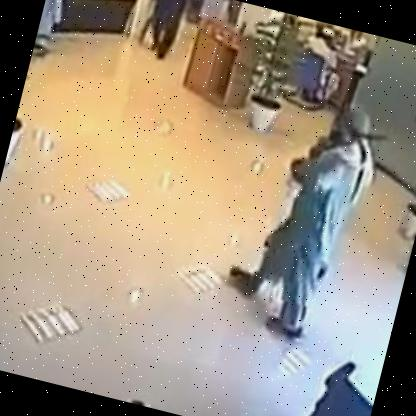person: (199, 78, 395, 356)
